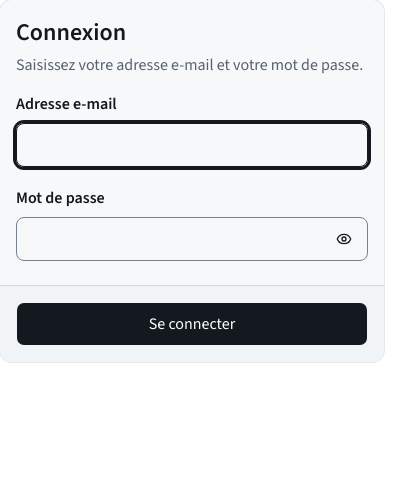
Test case: LoginForm › says the credentials are wrong without clearing anything that was typed
Step 1. Type "khawla@exemple.test" into the field labelled "Adresse e-mail" → (192, 145), box [16, 123, 368, 167]
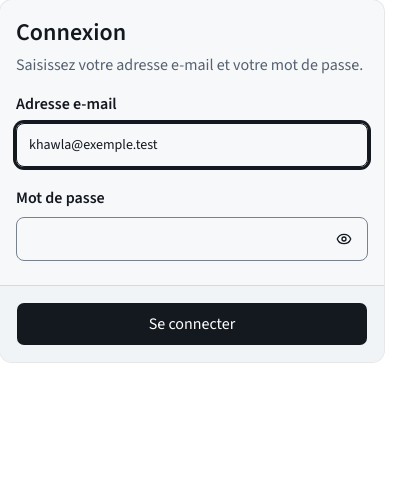
Step 2. Type "pas le bon mot de passe" into the password field labelled "Mot de passe" → (192, 239), box [16, 217, 368, 261]
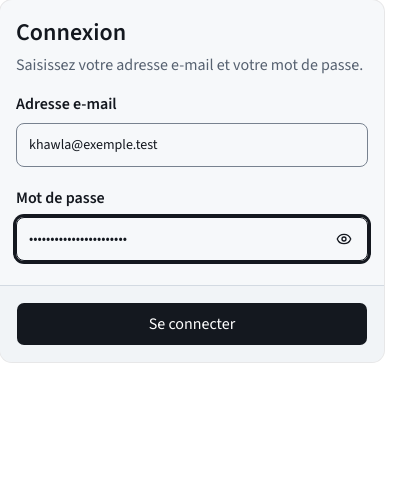
Step 3. Click the button "Se connecter" → (192, 324), box [16, 302, 368, 346]
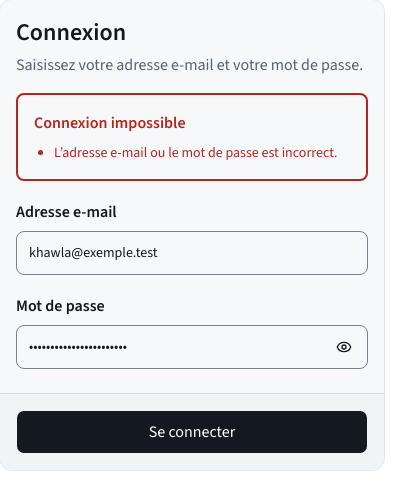
Now the message shows "Connexion impossible", box [34, 112, 186, 134]
Now the message shows "L’adresse e-mail ou le mot de passe est incorrect.", box [54, 143, 338, 163]
